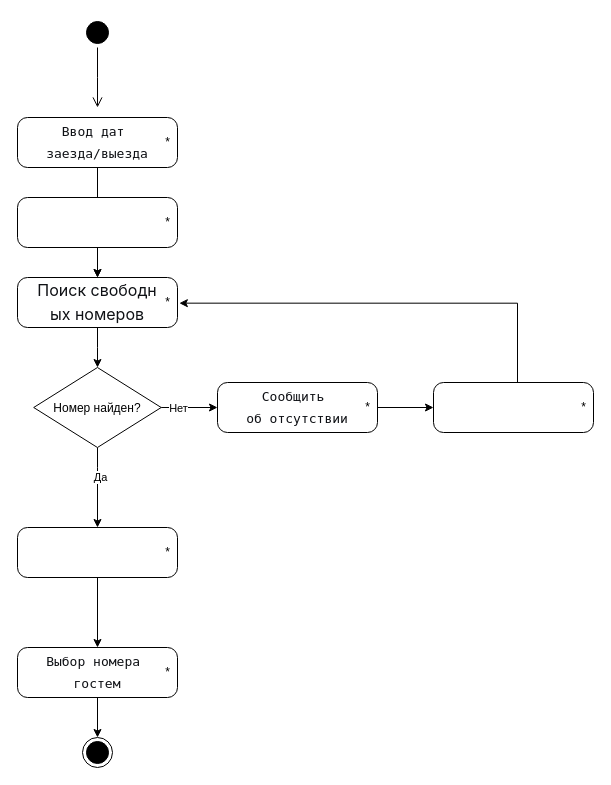
Image size: 611x785. Some labels were removed from this diagram. Each missing label, with the centre of its shape:
"Ввод количества гостей" belongs at (x=97, y=222).
"Изменить параметры поиска" belongs at (x=513, y=407).
"Показать варианты номеров" belongs at (x=97, y=552).
